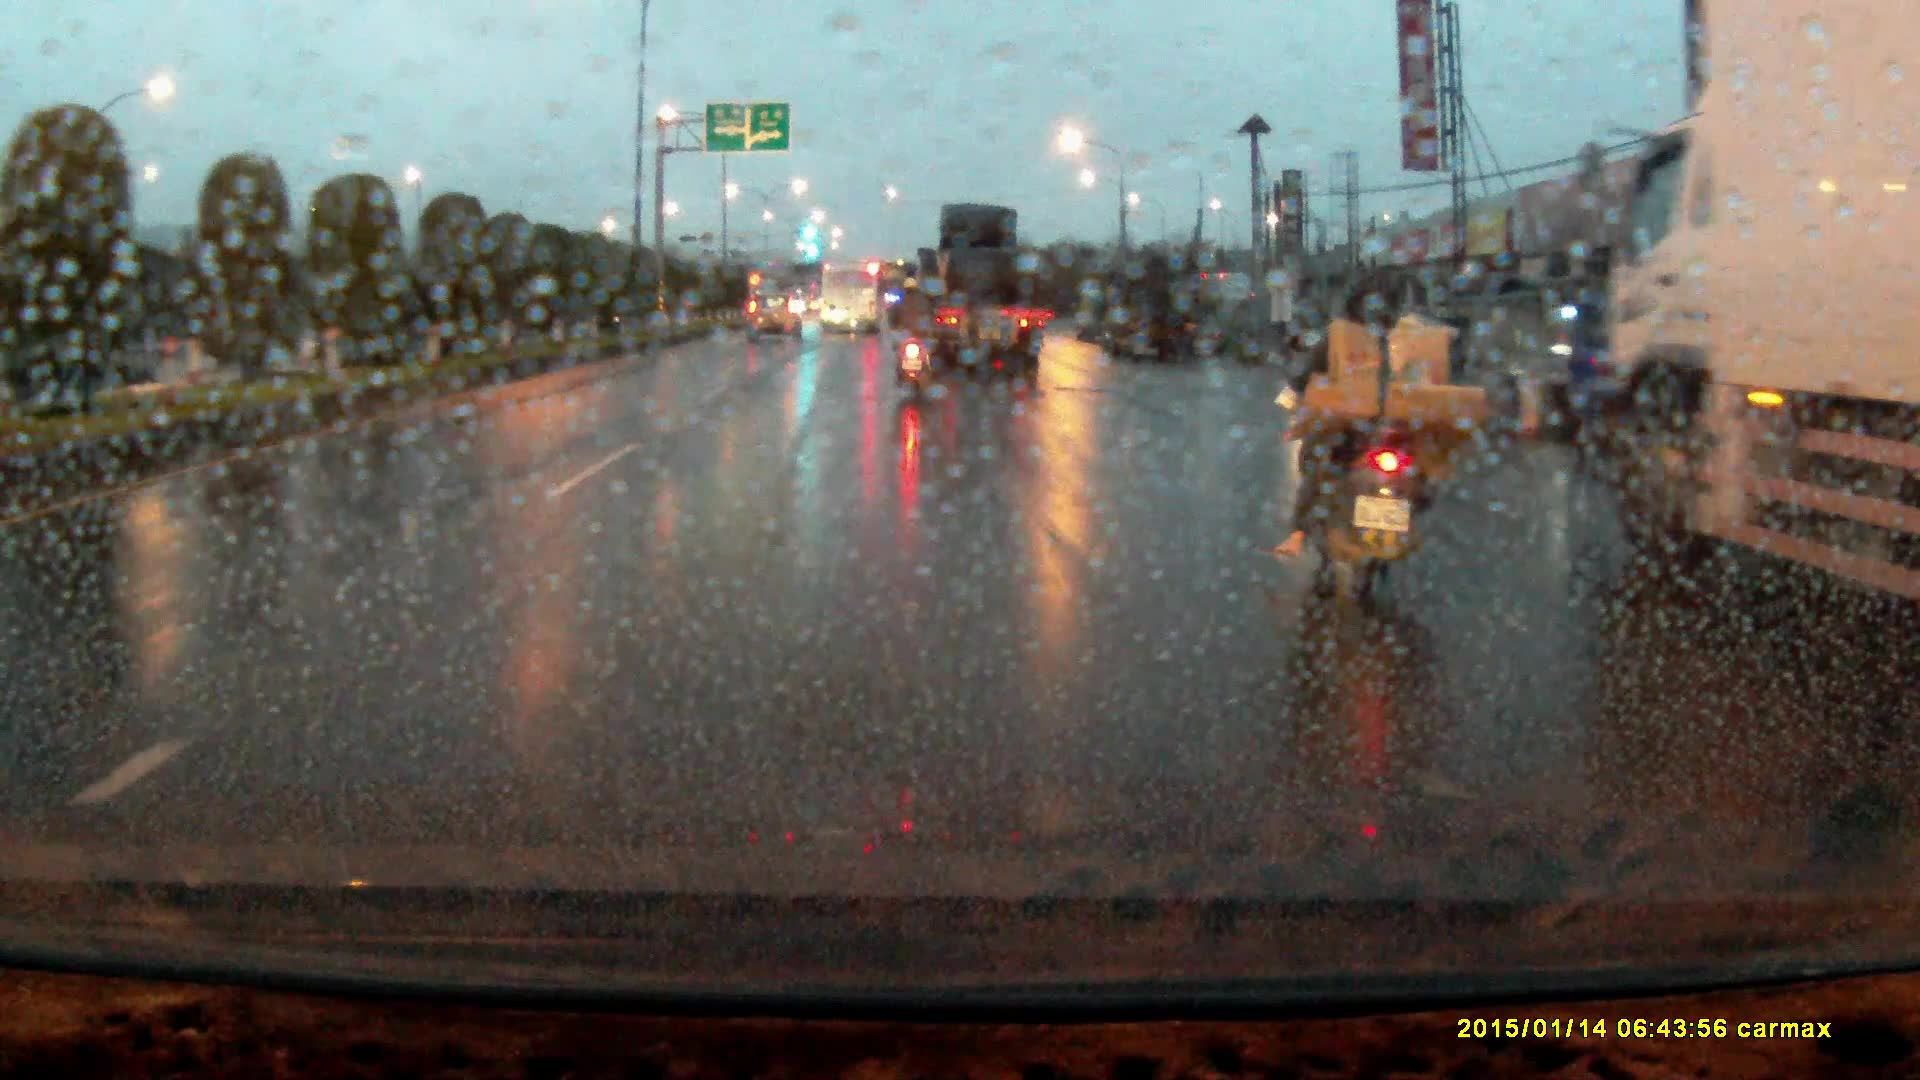rider: (1276, 252, 1496, 631), (892, 270, 942, 386)
vehicle: (1586, 1, 1920, 613), (900, 199, 1045, 378), (1110, 255, 1205, 363), (820, 261, 885, 339), (746, 292, 803, 340), (1074, 281, 1120, 338)
